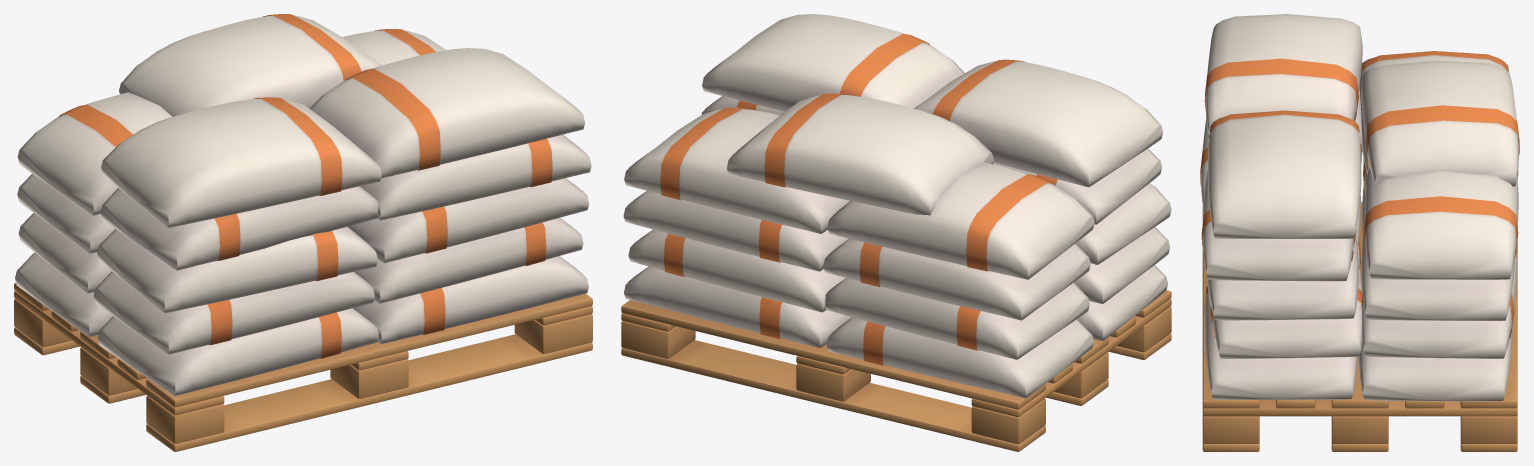
Rendered from cement-bags.glb.
3 renders of one model, left to right at view 1: azimuth 30°, elevation 25°; view 2: azimuth 150°, elevation 25°; view 3: azimuth 270°, elevation 25°, orthographic. The views are drawn at different scales.
Parts seen in each view (by area): view 1: cement-bags_body; view 2: cement-bags_body; view 3: cement-bags_body.
Part boxes in pixels (left/top/right/bottom): cement-bags_body: left=14, top=14, right=592, bottom=451; cement-bags_body: left=621, top=14, right=1171, bottom=451; cement-bags_body: left=1200, top=14, right=1519, bottom=451.
Size of the model in its own units: 1.22 by 0.7545 by 0.8114.
1 material, 1 textured.
